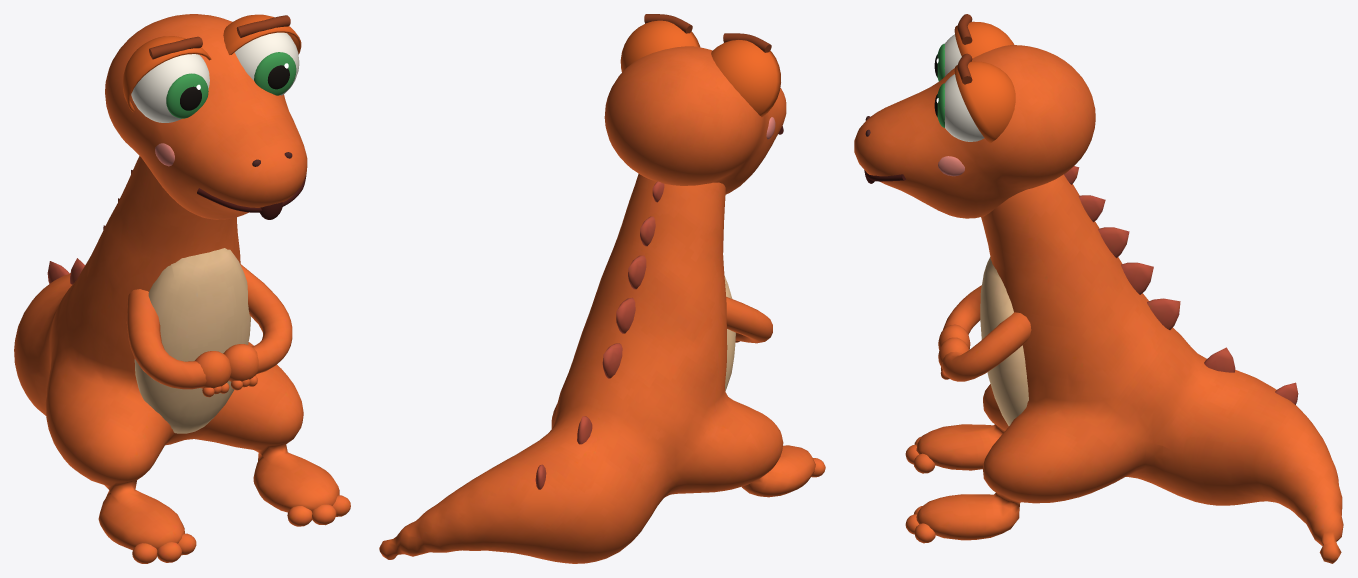
The model's file is dino.glb.
3 renders of one model, left to right at view 1: azimuth 30°, elevation 25°; view 2: azimuth 150°, elevation 25°; view 3: azimuth 270°, elevation 25°, orthographic. The views are drawn at different scales.
Parts seen in each view (by area): view 1: dino_cuerpo.001, dino_cabeza.001, ojo_blanco_R_w, parpado_R, ojo_blanco_L_w, parpado_L, ojo_iris_R_w, ojo_iris_L_w, ceja_R, ceja_L, boca_sonrisa; view 2: dino_cuerpo.001, dino_cabeza.001, parpado_R, parpado_L; view 3: dino_cuerpo.001, dino_cabeza.001, parpado_L, ojo_blanco_L_w, parpado_R.
Part boxes in pixels (left/top/right/bottom): dino_cuerpo.001: left=14, top=156, right=350, bottom=563; dino_cabeza.001: left=105, top=14, right=307, bottom=219; ojo_blanco_R_w: left=131, top=54, right=209, bottom=122; parpado_R: left=122, top=36, right=211, bottom=111; ojo_blanco_L_w: left=235, top=32, right=299, bottom=95; parpado_L: left=223, top=14, right=301, bottom=54; ojo_iris_R_w: left=166, top=73, right=208, bottom=118; ojo_iris_L_w: left=254, top=52, right=296, bottom=95; ceja_R: left=149, top=36, right=202, bottom=59; ceja_L: left=236, top=15, right=290, bottom=37; boca_sonrisa: left=197, top=174, right=306, bottom=212; dino_cuerpo.001: left=379, top=173, right=825, bottom=563; dino_cabeza.001: left=604, top=46, right=786, bottom=194; parpado_R: left=711, top=40, right=780, bottom=117; parpado_L: left=620, top=20, right=700, bottom=72; dino_cuerpo.001: left=905, top=166, right=1343, bottom=563; dino_cabeza.001: left=854, top=45, right=1095, bottom=218; parpado_L: left=954, top=61, right=1015, bottom=143; ojo_blanco_L_w: left=944, top=74, right=984, bottom=141; parpado_R: left=954, top=21, right=1014, bottom=58.
Bounding box in the file's own units: 1.34 × 2.26 × 2.19.
9 materials, 2 textured.
